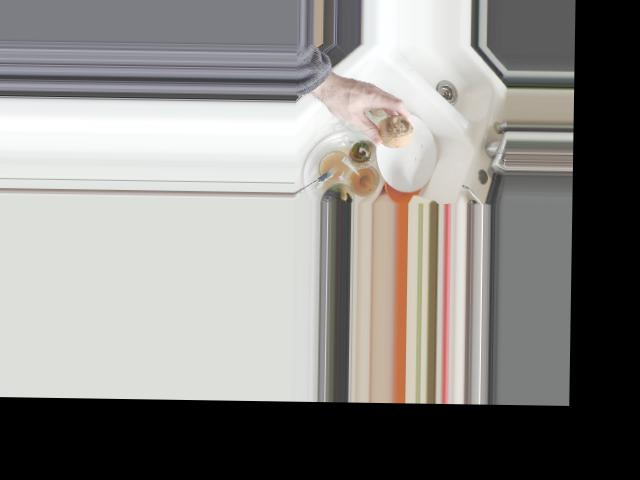sweet_potato: (369, 113, 415, 150)
